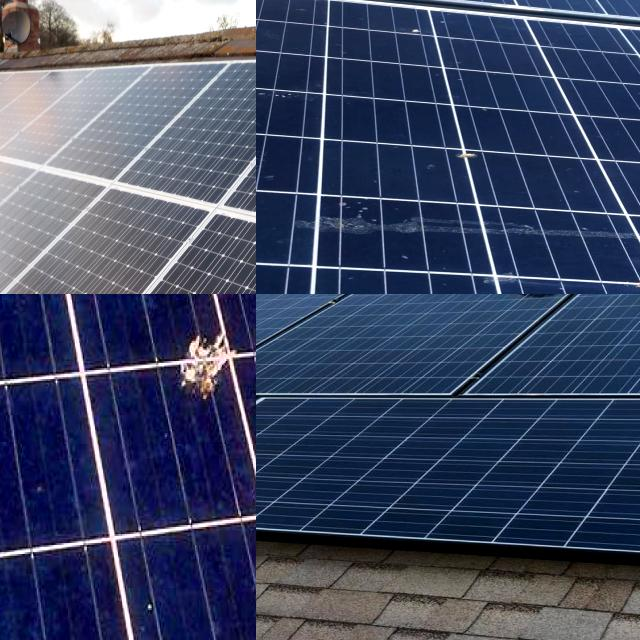bird: (173, 319, 247, 422)
crack: (256, 362, 640, 640), (256, 294, 597, 430), (474, 294, 640, 515), (0, 178, 218, 294), (256, 294, 439, 423)
